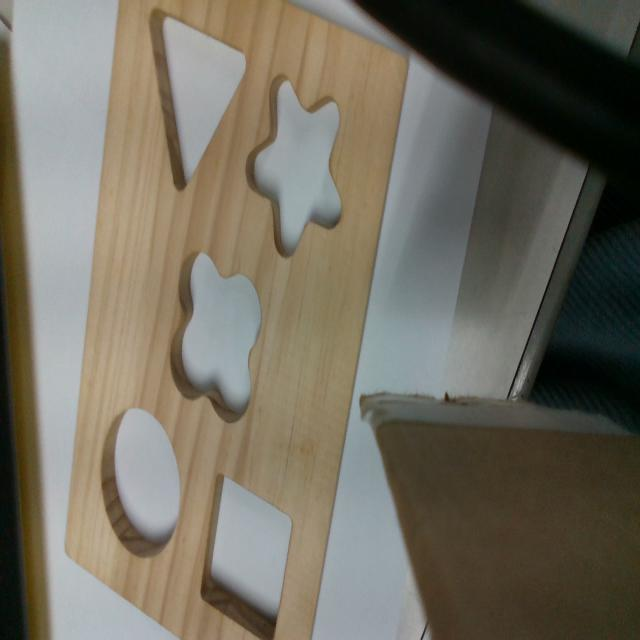circle: (102, 408, 182, 555)
flower: (171, 251, 262, 430)
square: (200, 471, 296, 639)
star: (246, 76, 345, 262)
triangle: (146, 5, 249, 189)
